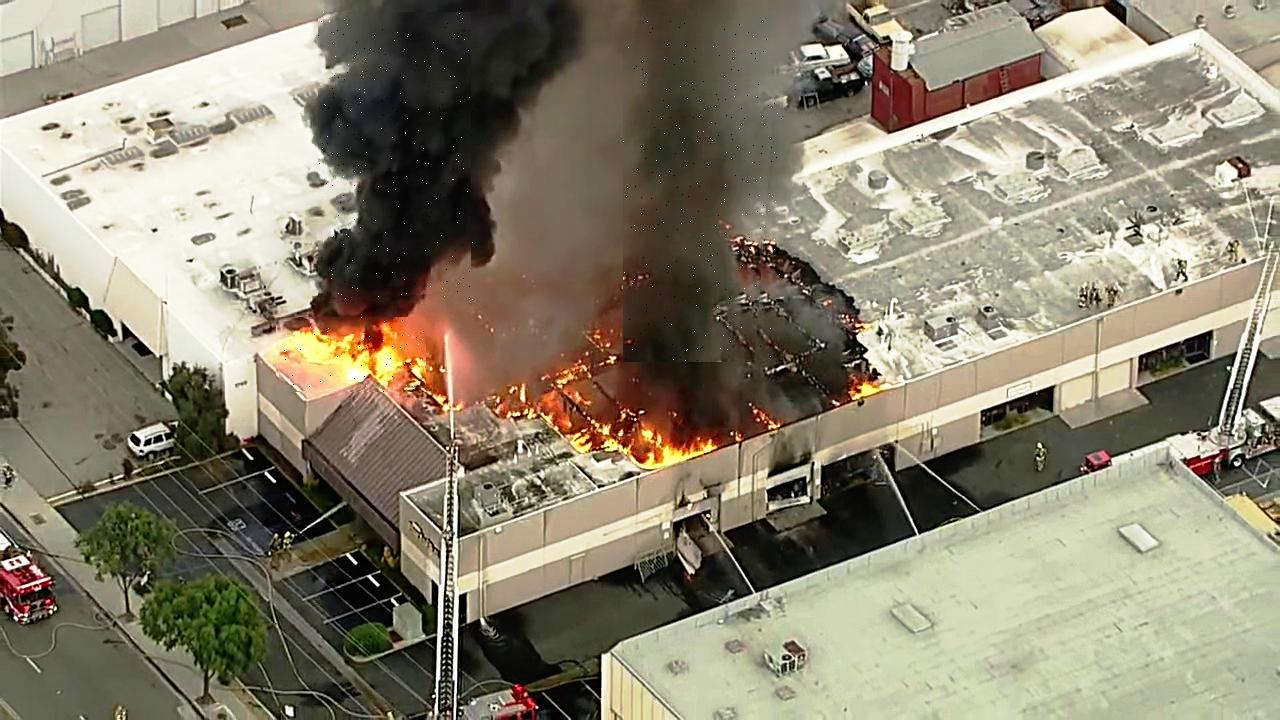fire: (277, 317, 429, 392)
smoke: (624, 20, 783, 362), (319, 12, 474, 303)
